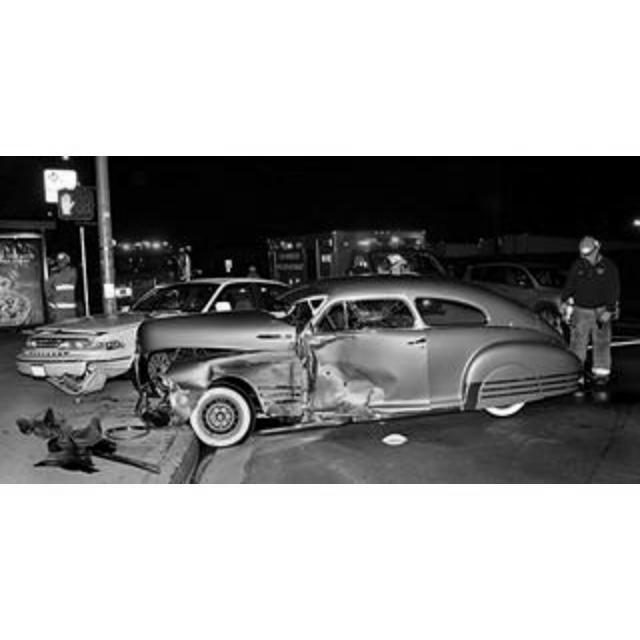doorouter-dent: (308, 330, 408, 414)
fender-dent: (172, 346, 300, 406)
